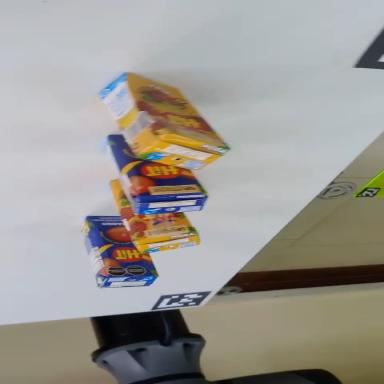HIT-MANGO: (82, 130, 214, 238), (84, 212, 158, 289)
HIT-MORA: (88, 52, 230, 199), (88, 177, 207, 273)
cara_F: (122, 55, 227, 171), (91, 130, 212, 223), (92, 177, 201, 262), (84, 200, 159, 294)
